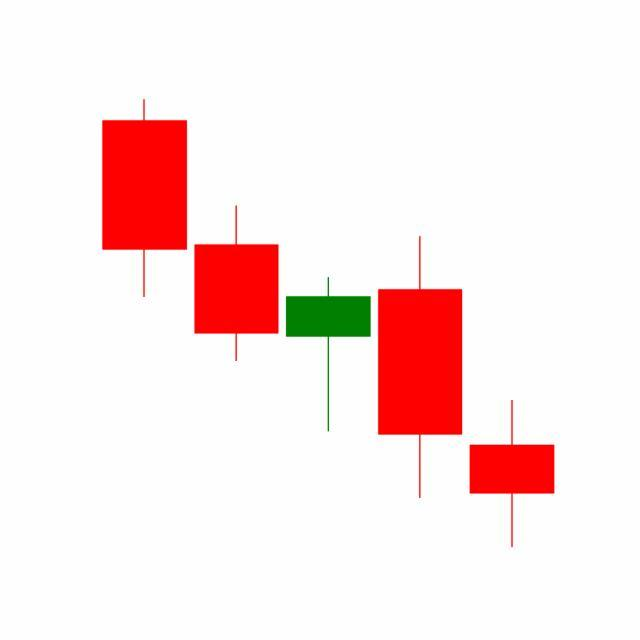Three Outside Up-Down: (280, 232, 555, 549)
